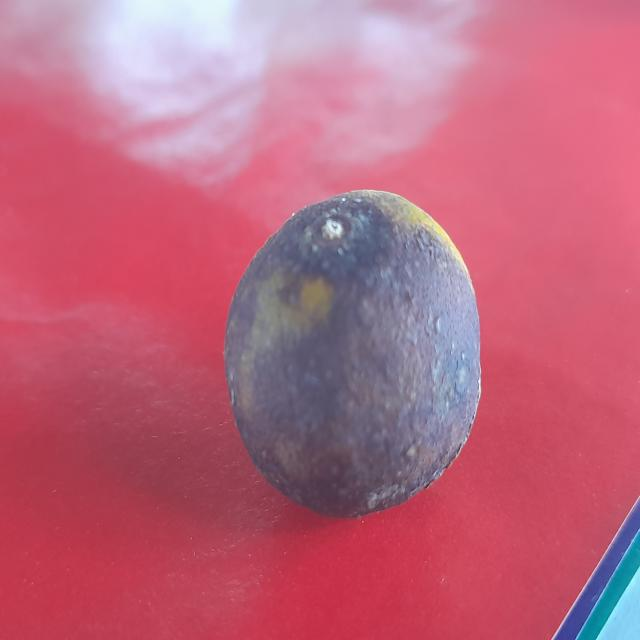black spot: (214, 159, 502, 538)
